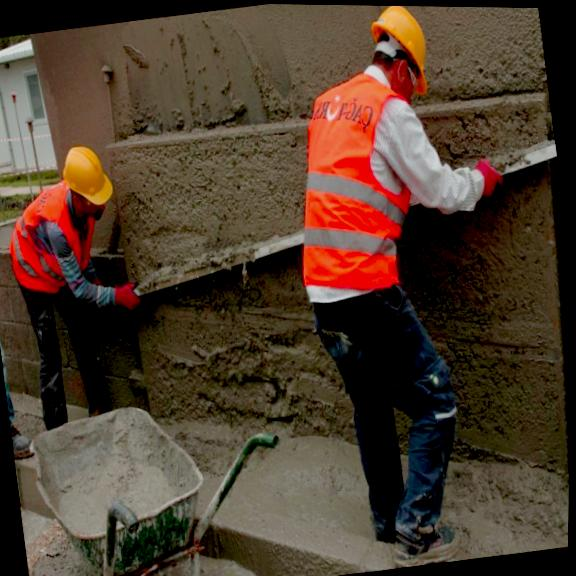safety_vest: (273, 62, 444, 322), (0, 172, 107, 304)
